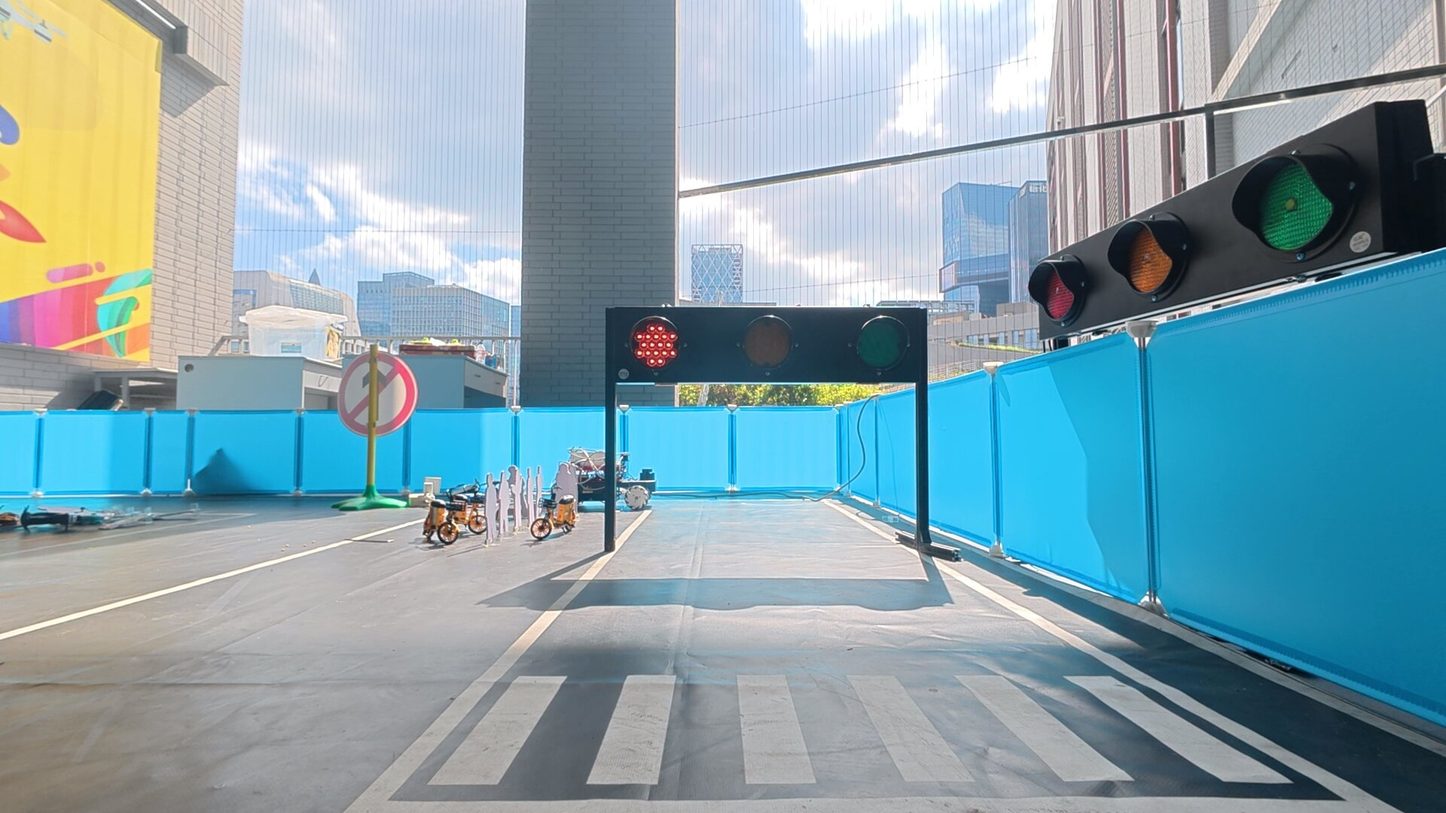stop: (629, 315, 683, 373)
